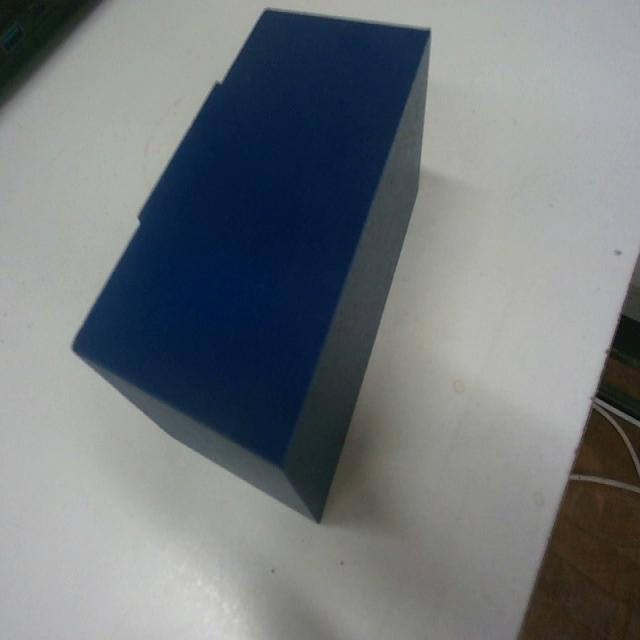Blue Cuboid: (70, 5, 433, 523)
